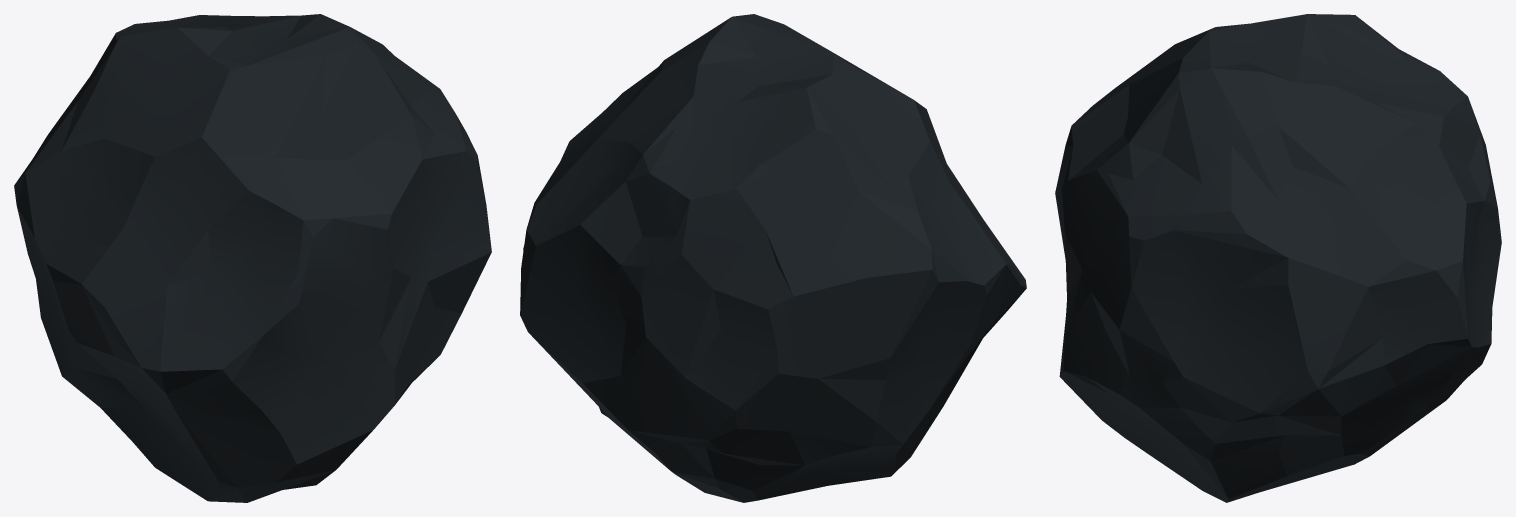
File: Asteroid_m_23.FBX
The picture shows the model from 3 angles, left to right: view 1: azimuth 30°, elevation 25°; view 2: azimuth 150°, elevation 25°; view 3: azimuth 270°, elevation 25°; orthographic projection.
Parts seen in each view (by area): view 1: Asteroid_m_23; view 2: Asteroid_m_23; view 3: Asteroid_m_23.
Part boxes in pixels (x1=…): Asteroid_m_23: x1=14, y1=14, x2=491, y2=502; Asteroid_m_23: x1=520, y1=14, x2=1026, y2=502; Asteroid_m_23: x1=1055, y1=14, x2=1501, y2=502.
Bounding box in the file's own units: 914 × 876 × 812.
